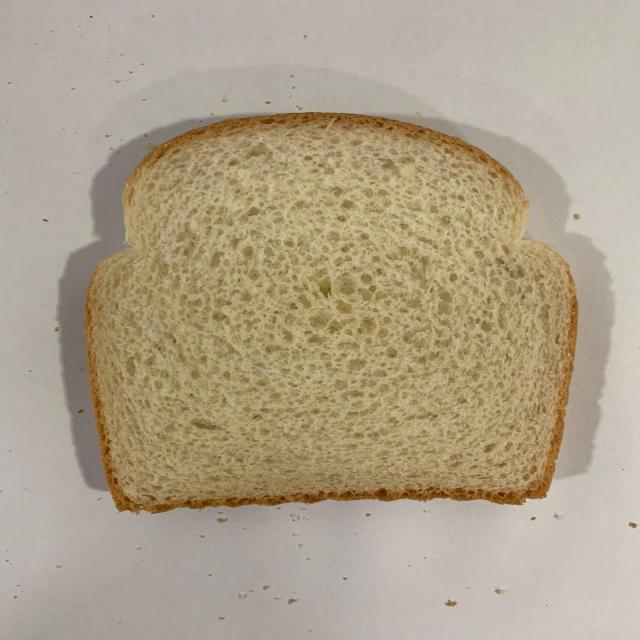pan: (88, 111, 578, 512)
